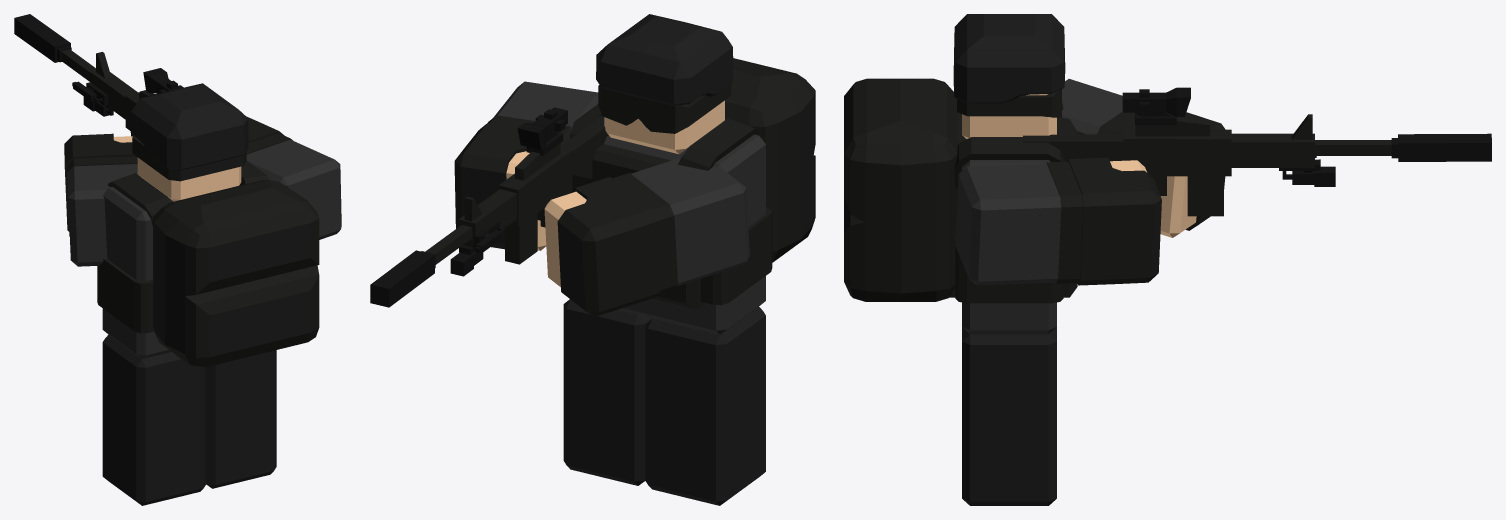
The picture shows the model from 3 angles, left to right: view 1: azimuth 30°, elevation 25°; view 2: azimuth 150°, elevation 25°; view 3: azimuth 270°, elevation 25°; orthographic projection. The views are drawn at different scales.
Parts seen in each view (by area): view 1: Glove.001, Glove.002, Glove.003; view 2: Glove.003, Glove.001, Glove.002; view 3: Glove.003, Glove.001, Glove.002.
Boxes of the visible parts, x1,y1,x2,y2 form: Glove.001: [97, 83, 319, 366]; Glove.002: [102, 334, 276, 505]; Glove.003: [14, 14, 341, 266]; Glove.003: [370, 81, 749, 316]; Glove.001: [569, 14, 815, 334]; Glove.002: [563, 299, 765, 505]; Glove.003: [955, 79, 1491, 285]; Glove.001: [844, 14, 1077, 334]; Glove.002: [962, 327, 1056, 505].
Bounding box in the file's own units: 3.33 × 5.18 × 6.84.
